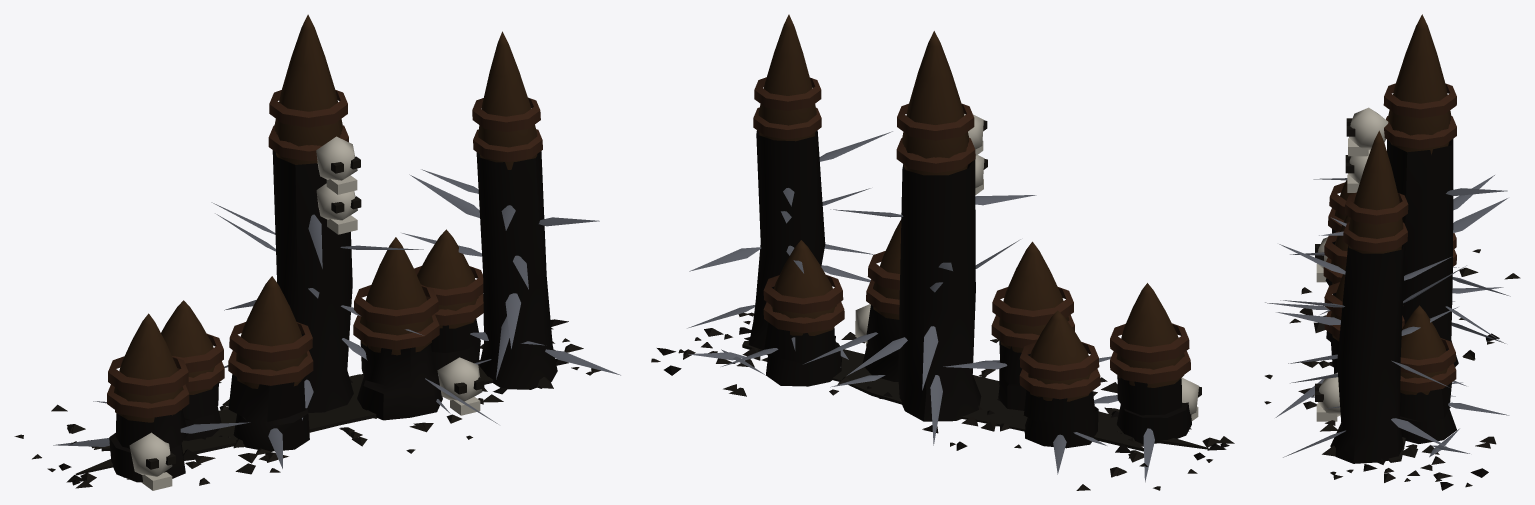
File: TarPRWall04a.glb
3 views of the same model, side by side, from view 1: azimuth 30°, elevation 25°; view 2: azimuth 150°, elevation 25°; view 3: azimuth 270°, elevation 25° (orthographic). The views are drawn at different scales.
Visible parts, largest first — view 1: pal_body; view 2: pal_body; view 3: pal_body.
Part boxes in pixels (x1,y1,x2,y2): pal_body: (14, 14, 620, 490); pal_body: (651, 14, 1234, 490); pal_body: (1264, 14, 1520, 490).
Size of the model in its own units: 7.62 by 5.2 by 3.37.
